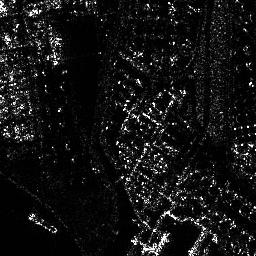ship: (27, 212, 58, 233)
